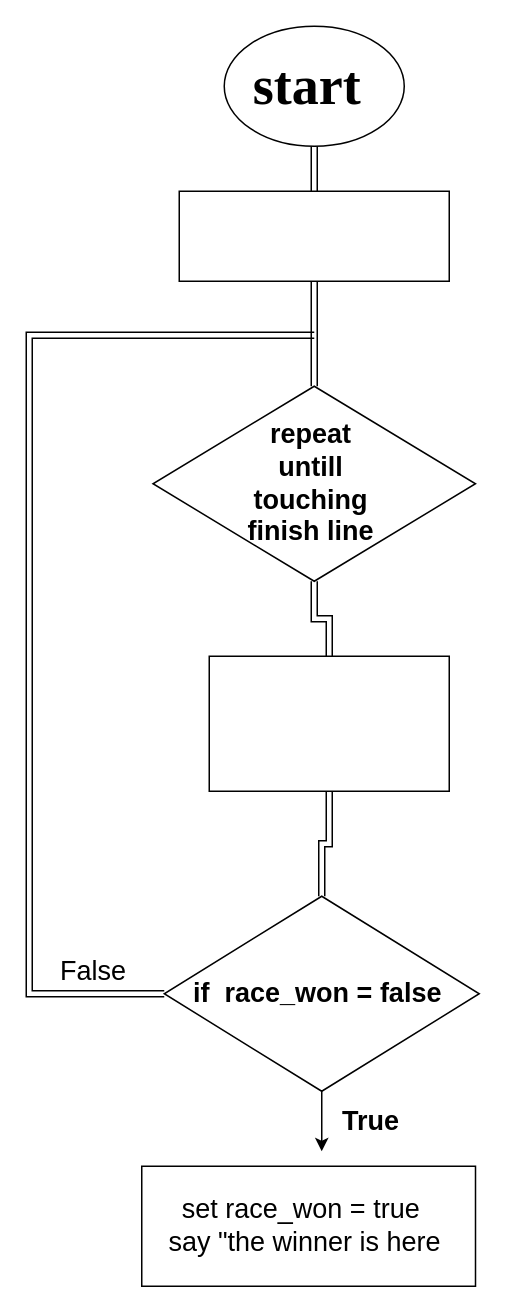
The diagram is 506 pixels wide and 1313 high, and some of its shapes have lost their labels. Here are the shapes that lost their labels. From the top down, the centre of each, then its label:
At (x=313, y=235): "go to front go to startline".
At (x=328, y=723): "move 20 step wait X seconds next costume".
